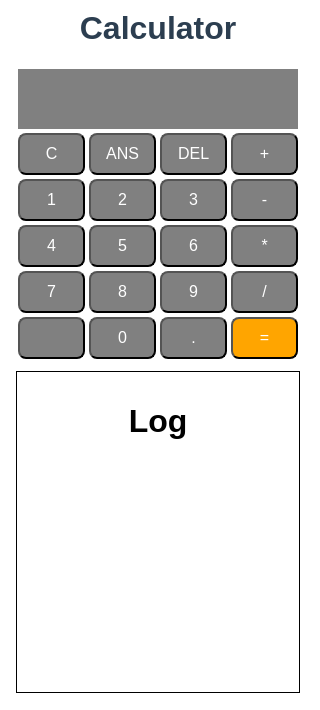
Test: Calculator.vue › display 1 when 1 is clicked
Click the button "1".
click(52, 200)  # box x1=18 y1=179 x2=85 y2=221
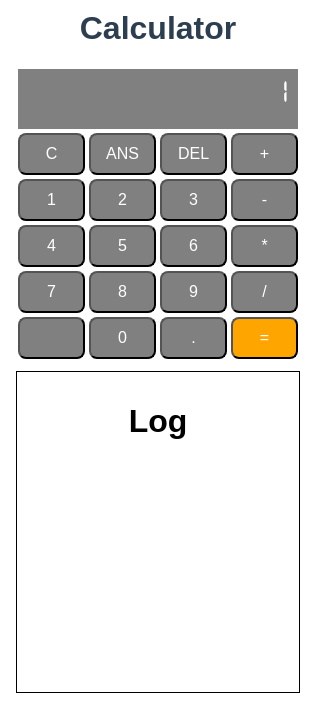
Expected: the text "1" is shown, x1=18 y1=69 x2=298 y2=129
